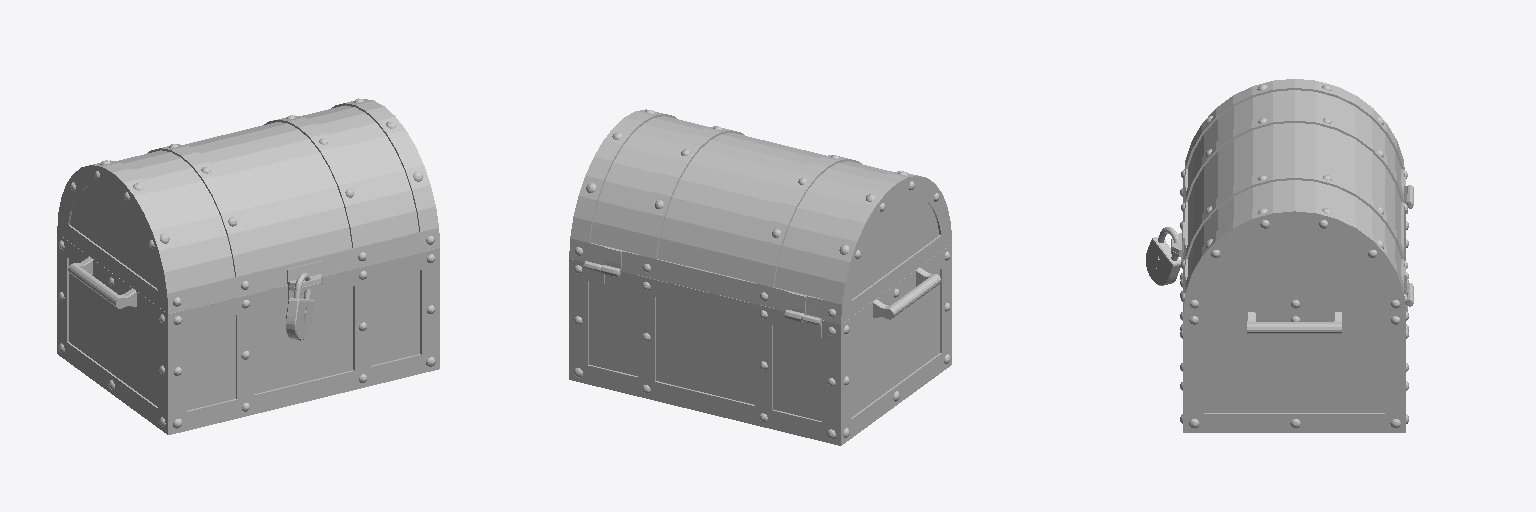
The model's file is chest.obj.
The picture shows the model from 3 angles: view 1: azimuth 30°, elevation 25°; view 2: azimuth 150°, elevation 25°; view 3: azimuth 270°, elevation 25°; orthographic projection.
Size of the model in its own units: 1 by 0.677 by 0.7437.